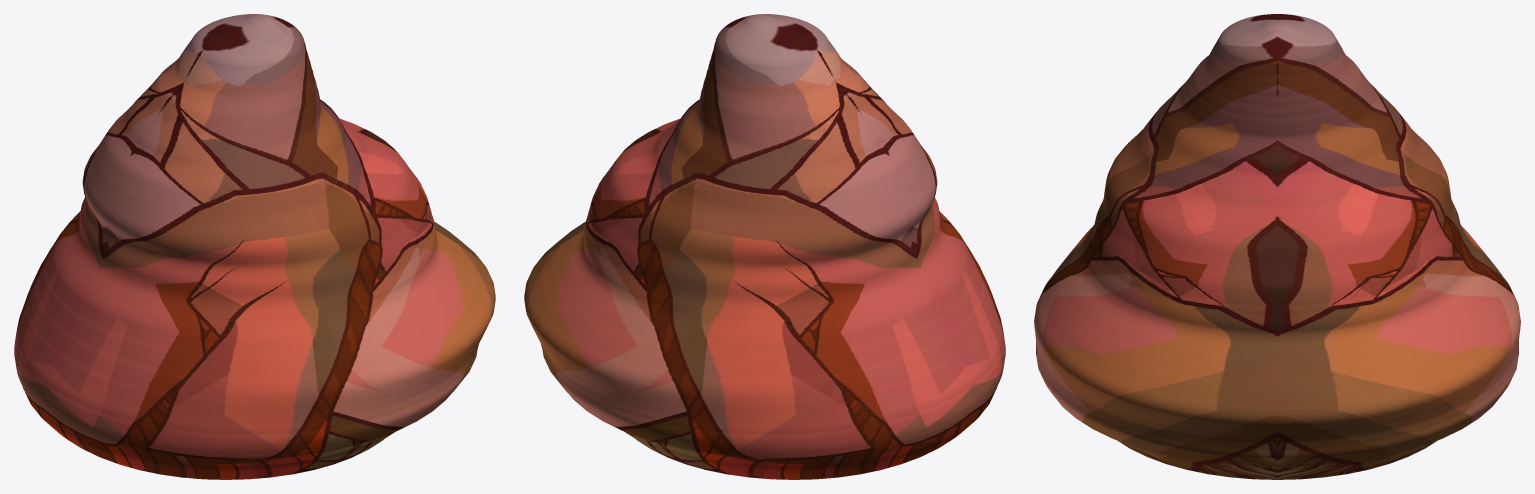
The model's file is summit_boulders.glb.
3 views of the same model, side by side, from view 1: azimuth 30°, elevation 25°; view 2: azimuth 150°, elevation 25°; view 3: azimuth 270°, elevation 25° (orthographic). The views are drawn at different scales.
Visible parts, largest first — view 1: summit_boulders; view 2: summit_boulders; view 3: summit_boulders.
Part boxes in pixels (x1,y1,x2,y2): summit_boulders: (14, 14, 495, 479); summit_boulders: (524, 14, 1005, 479); summit_boulders: (1034, 14, 1520, 479).
Size of the model in its own units: 0.9968 by 0.9068 by 0.961.
1 material, 1 textured.
